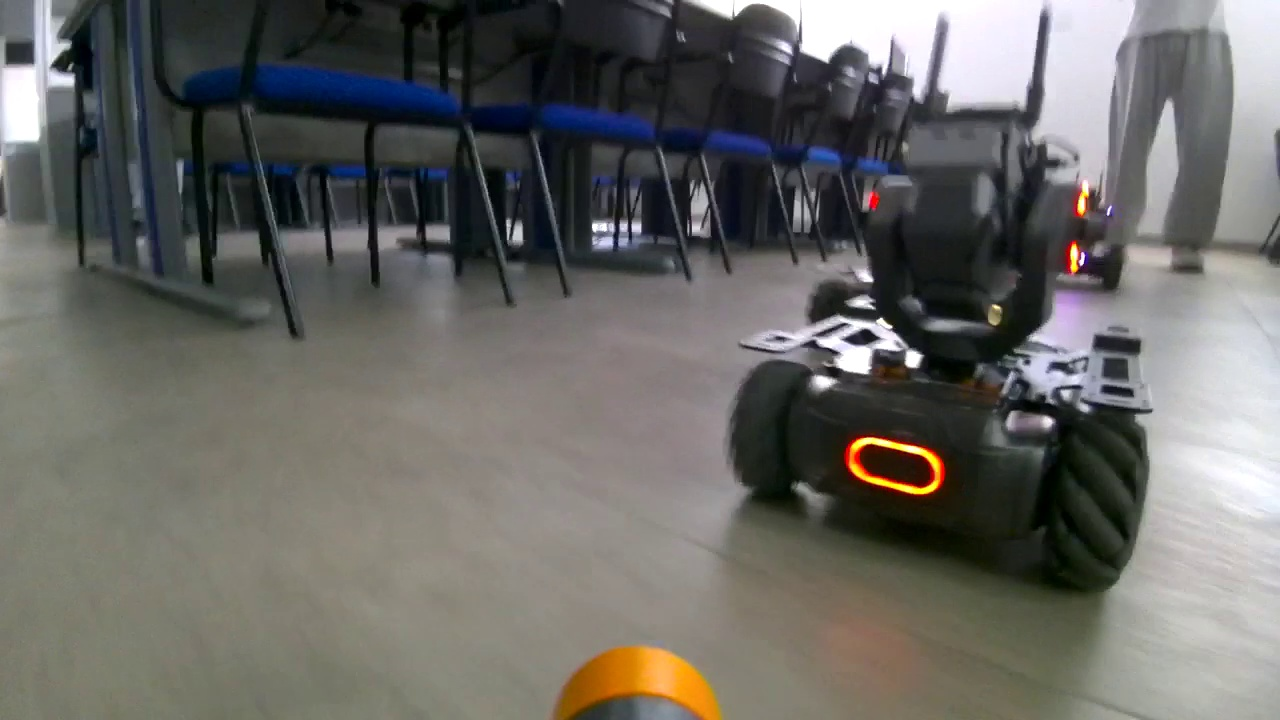robot: (686, 3, 1186, 605)
